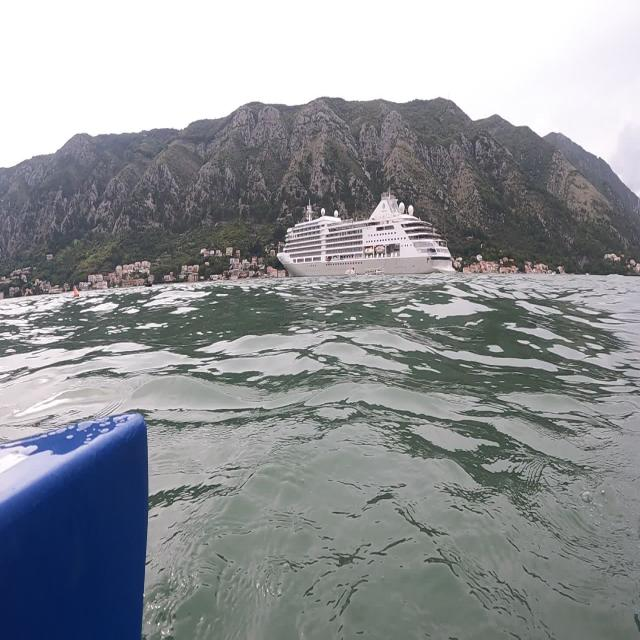boat: (275, 189, 456, 279)
buoy: (72, 282, 81, 302)
